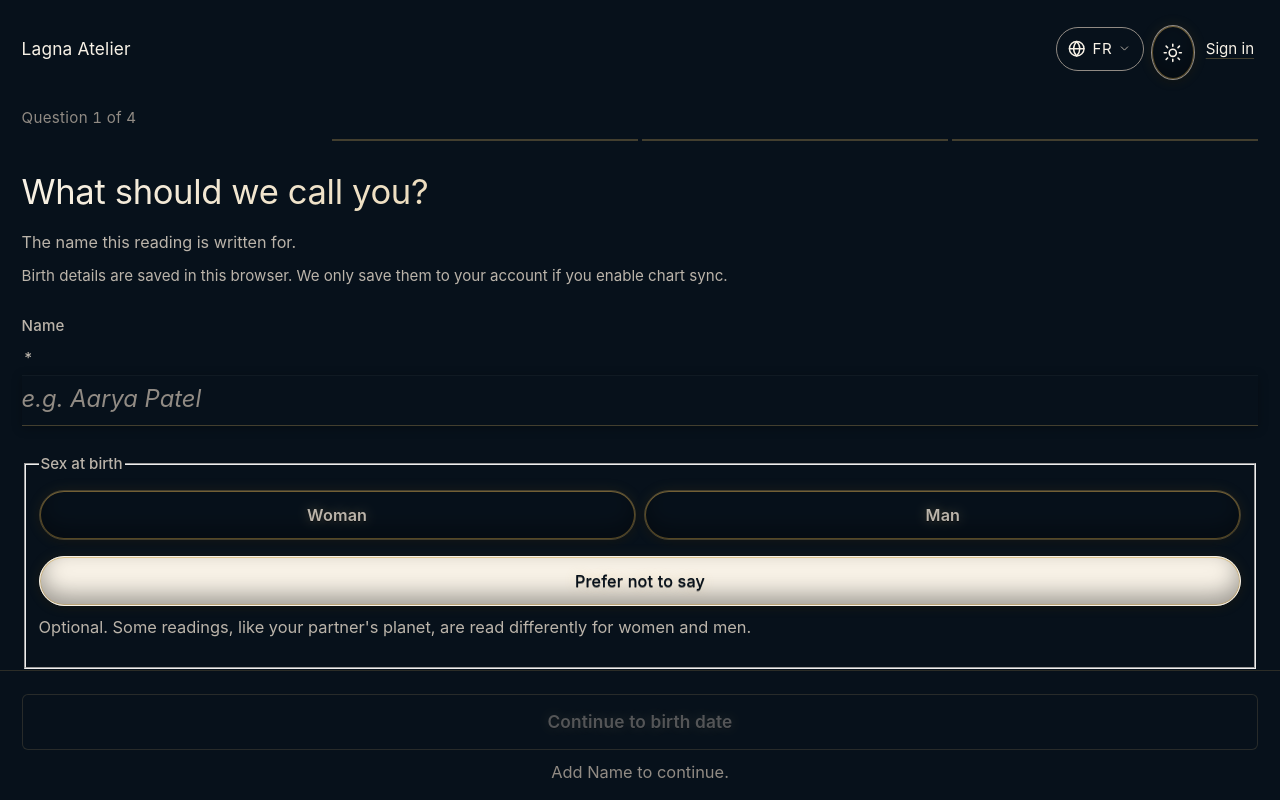
Test: MobileIntake's birth date, typed in French › is read when the field is left
Type "Ada" into the field labelled "Name *".
click(640, 400); type("Ada")  # box [22,375,1258,426]
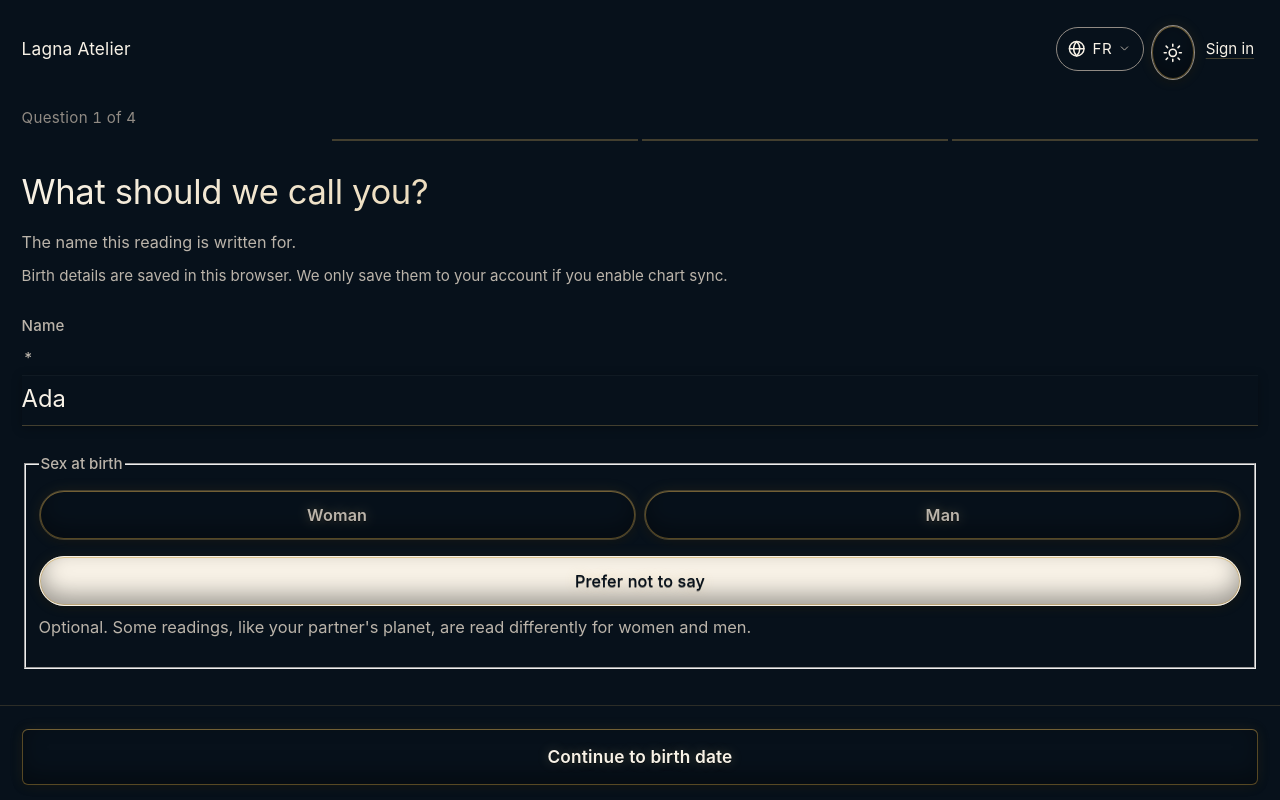
Submit the form
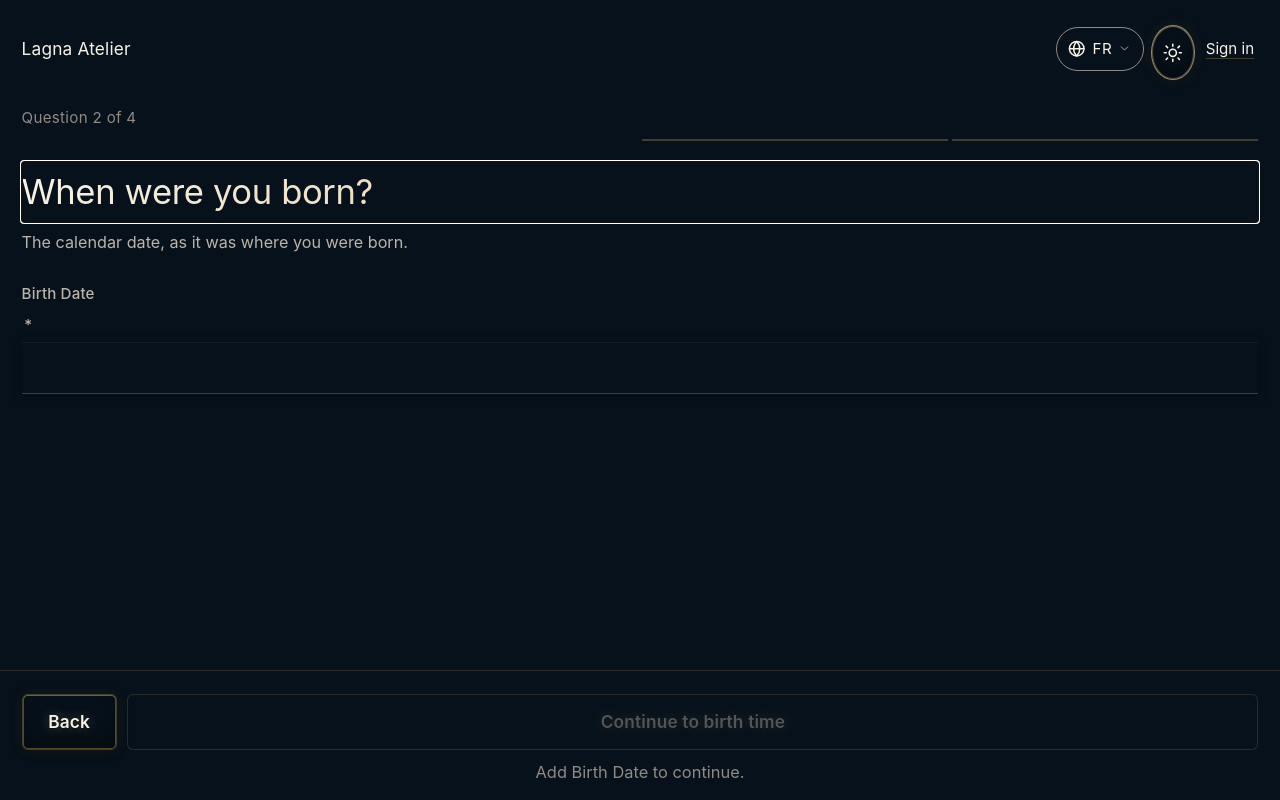
Type "15 juin 1990" into the field labelled "Birth Date *".
click(640, 368); type("15 juin 1990")  # box [22,342,1258,394]
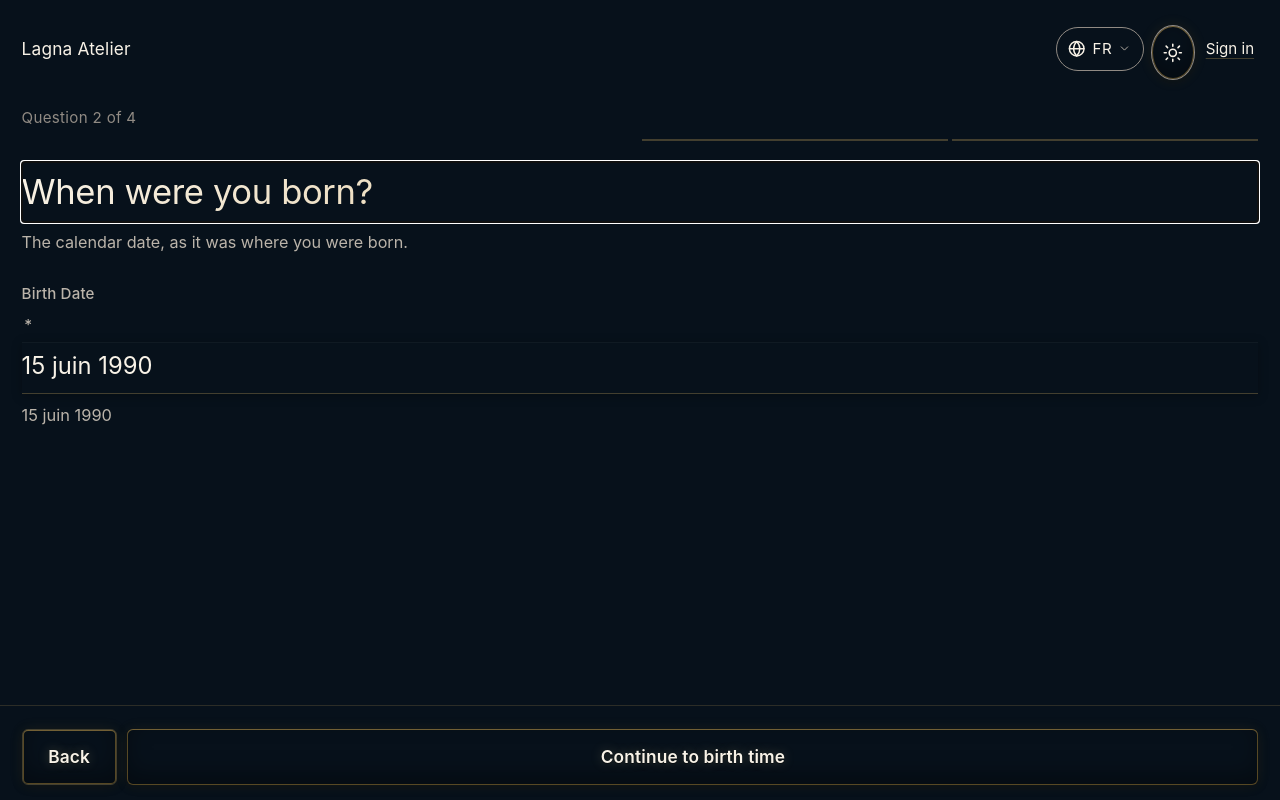
Leave the field labelled "Birth Date *", box [22,342,1258,394]
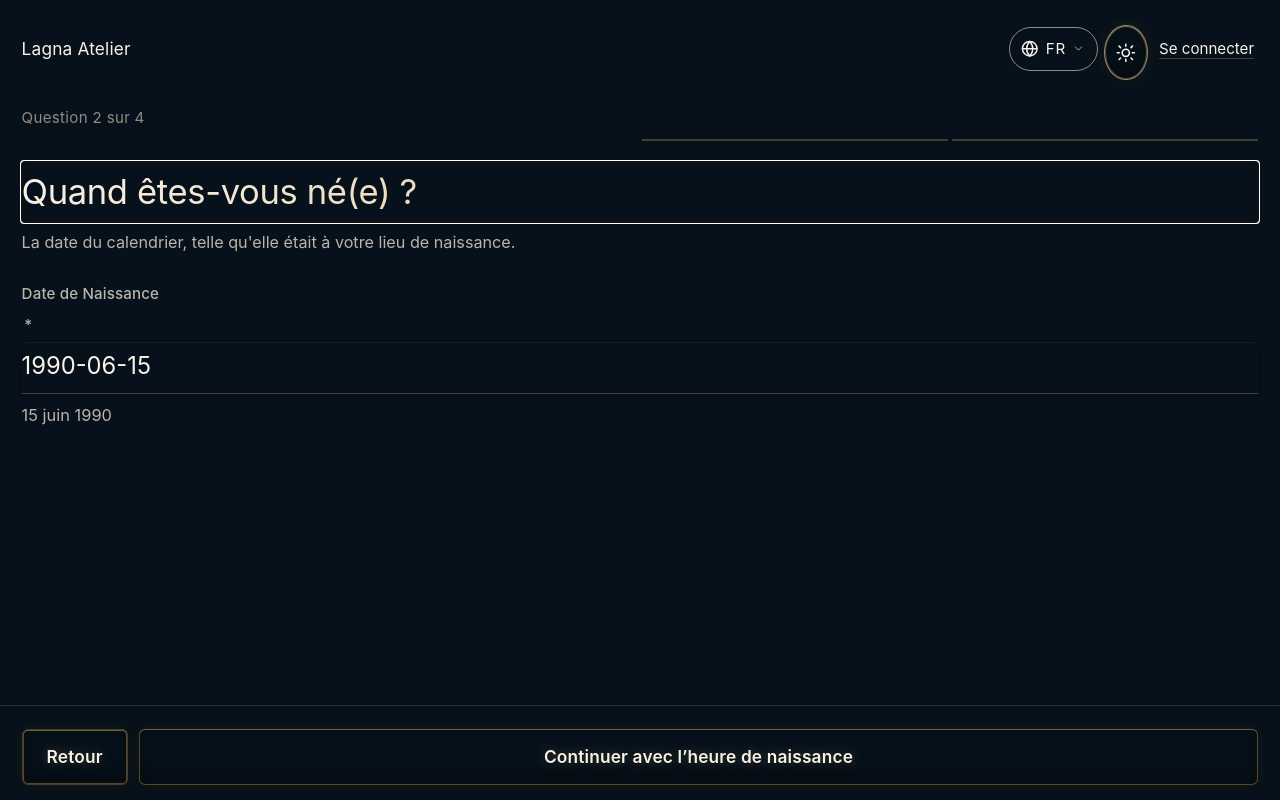
Now the text "15 juin 1990" is shown, box [22,405,112,425]
Now the field labelled "Date de Naissance *" holds "1990-06-15", box [22,342,1258,394]
